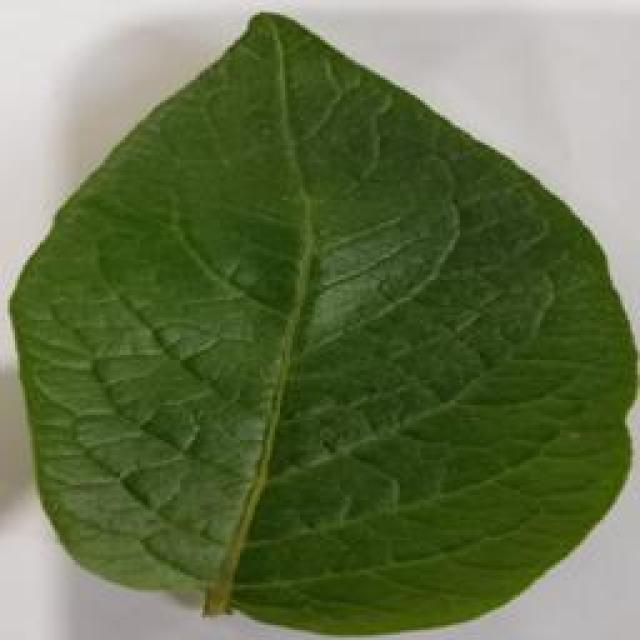Potato_Healthy: (9, 9, 628, 630)
